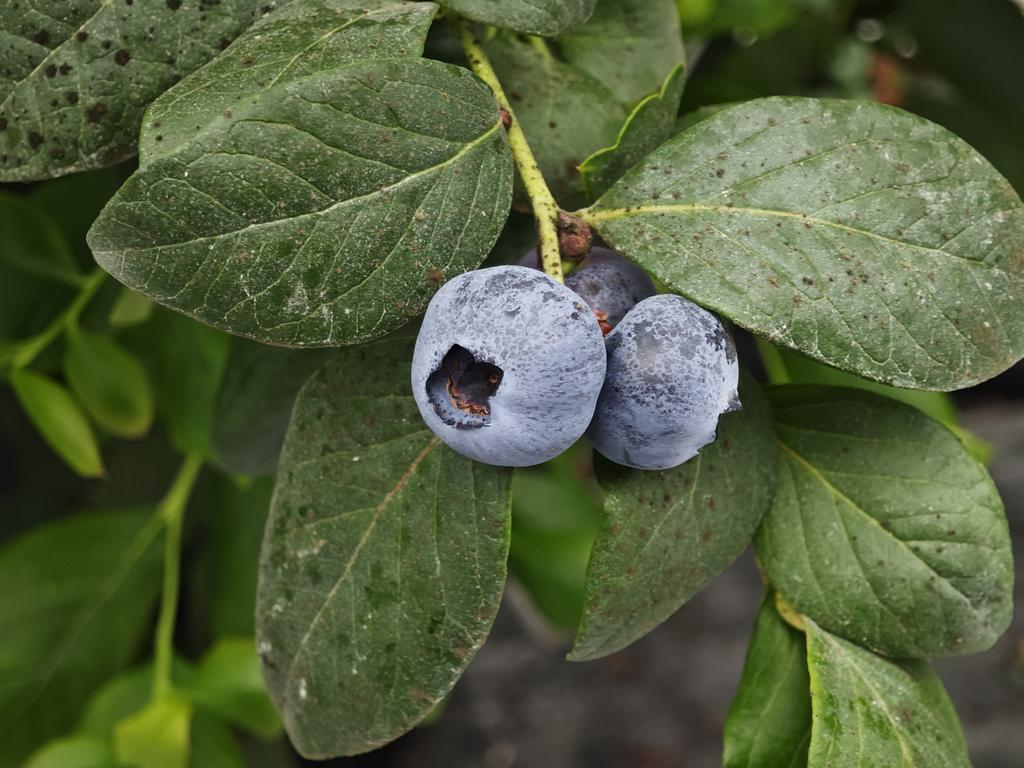RipeBlueBerry: (409, 262, 610, 468), (595, 290, 742, 470)
